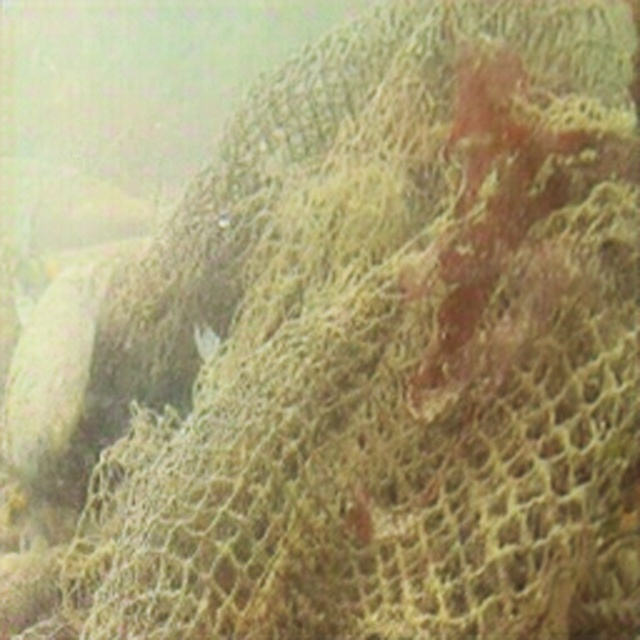mine: (61, 0, 639, 639)
